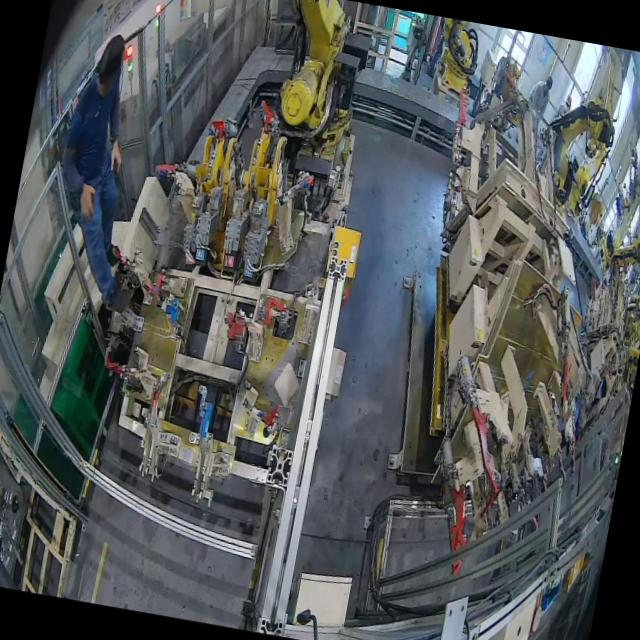Person: (36, 27, 176, 315), (520, 72, 554, 145)
